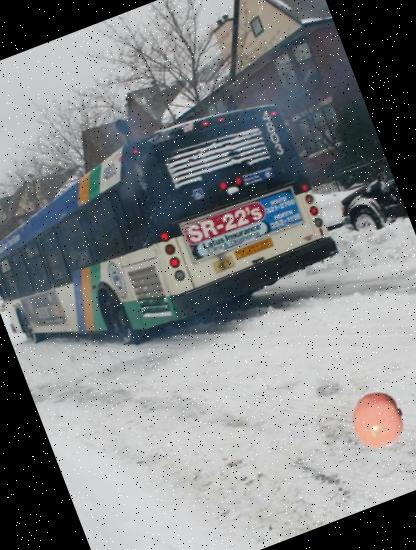Clementine: (341, 384, 415, 458)
